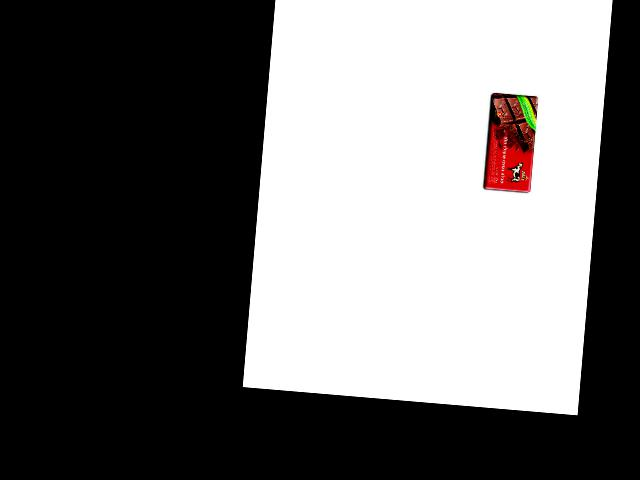chocolate: (478, 92, 539, 196)
